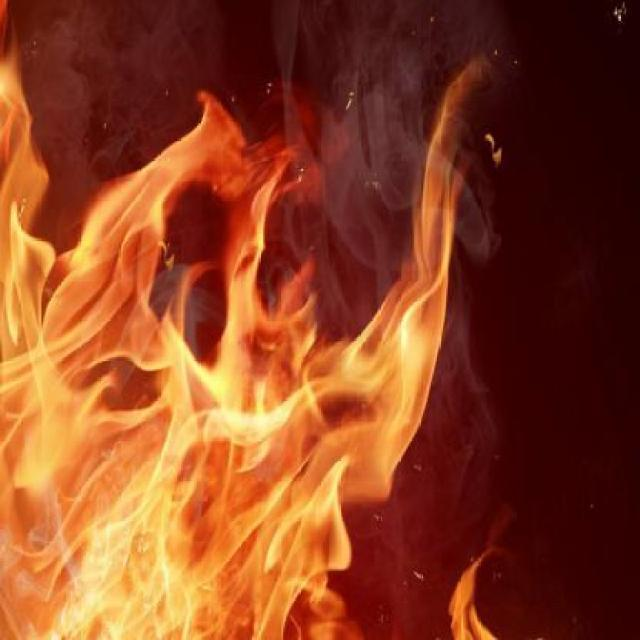Fire: (0, 0, 540, 638)
Smoke: (3, 0, 542, 635)
